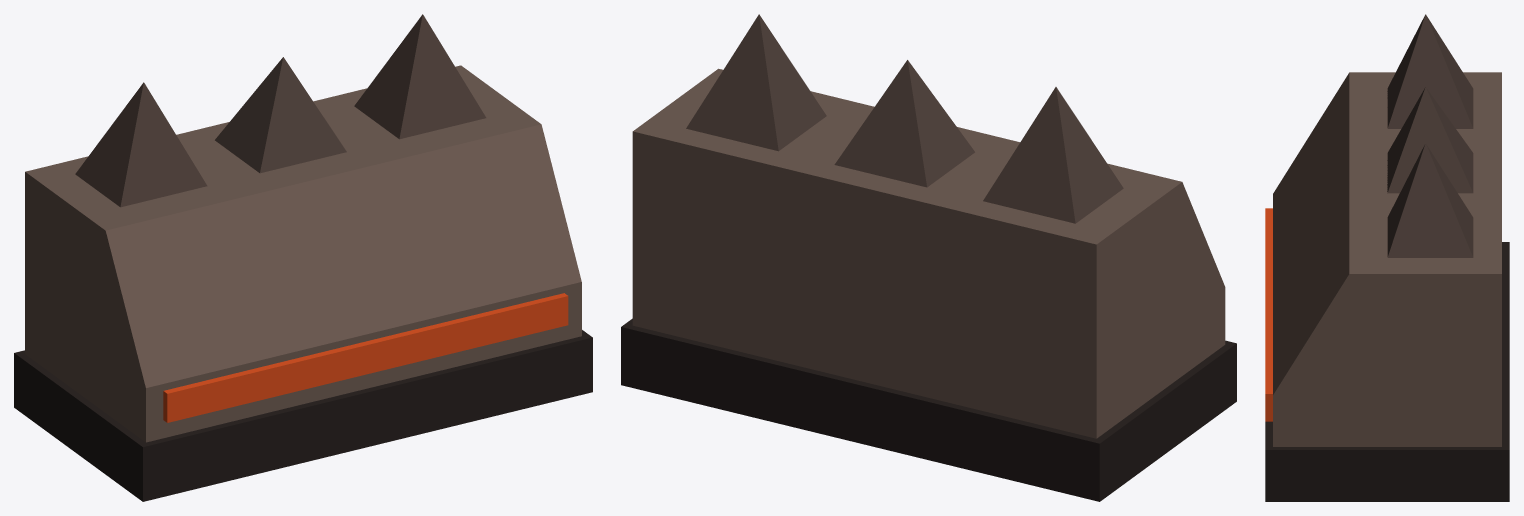
Rendered from barrierA.glb.
3 views of the same model, side by side, from view 1: azimuth 30°, elevation 25°; view 2: azimuth 150°, elevation 25°; view 3: azimuth 270°, elevation 25° (orthographic). The views are drawn at different scales.
Visible parts, largest first — view 1: volcano-barrierA; view 2: volcano-barrierA; view 3: volcano-barrierA.
Part boxes in pixels (<box>): volcano-barrierA: <box>14,14,592,501</box>; volcano-barrierA: <box>621,14,1236,501</box>; volcano-barrierA: <box>1265,14,1509,501</box>.
Size of the model in its own units: 0.258 by 0.1848 by 0.128.
